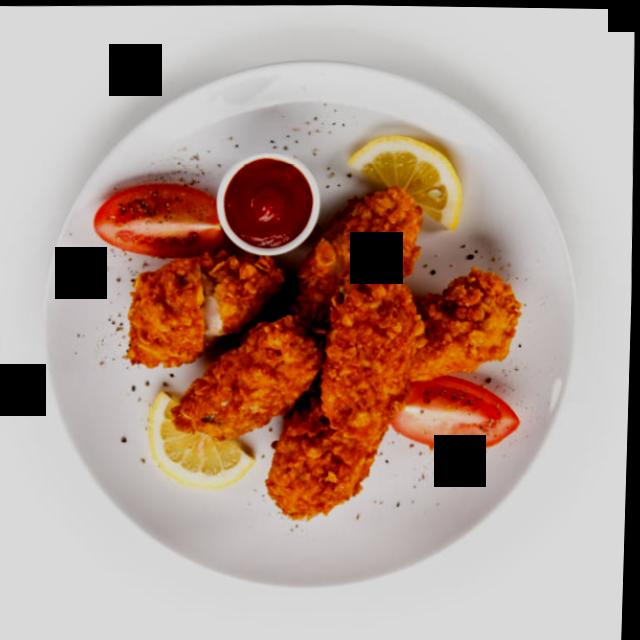Frango: (113, 173, 533, 528)
